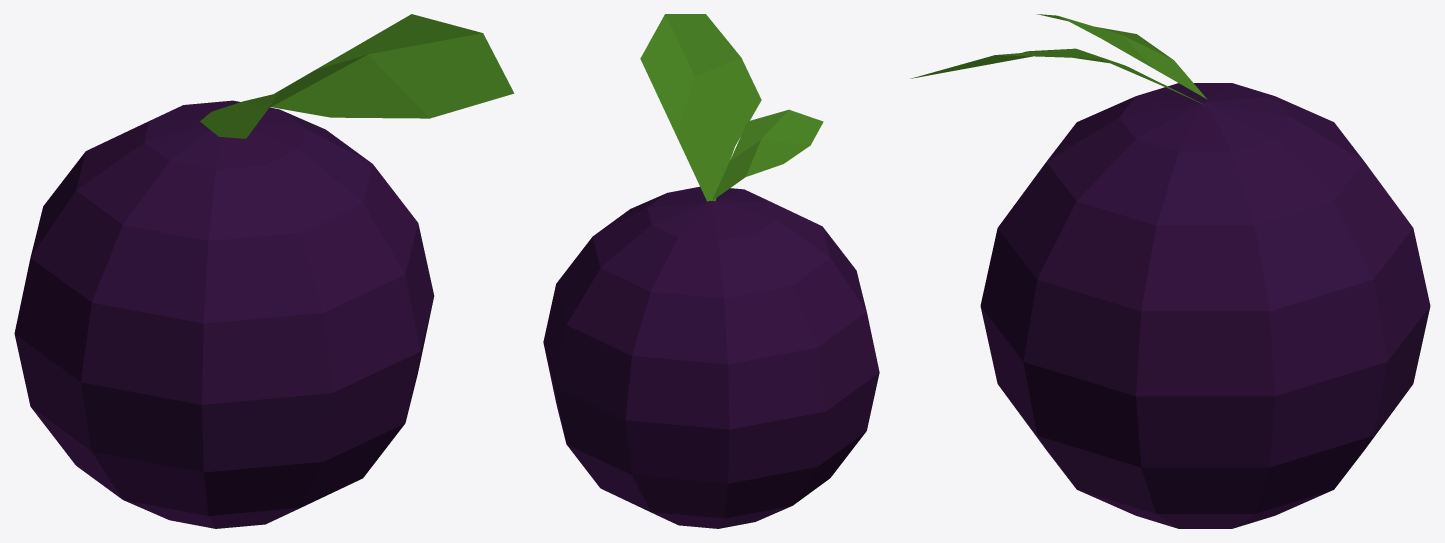
Rendered from acai.fbx.
The picture shows the model from 3 angles, left to right: view 1: azimuth 30°, elevation 25°; view 2: azimuth 150°, elevation 25°; view 3: azimuth 270°, elevation 25°; orthographic projection. The views are drawn at different scales.
Visible parts, largest first — view 1: acai; view 2: acai; view 3: acai.
Part boxes in pixels (x1,y1,x2,y2): acai: [14, 14, 514, 528]; acai: [543, 14, 879, 528]; acai: [910, 14, 1430, 528].
Bounding box in the file's own units: 32.55 × 44.96 × 39.7.
